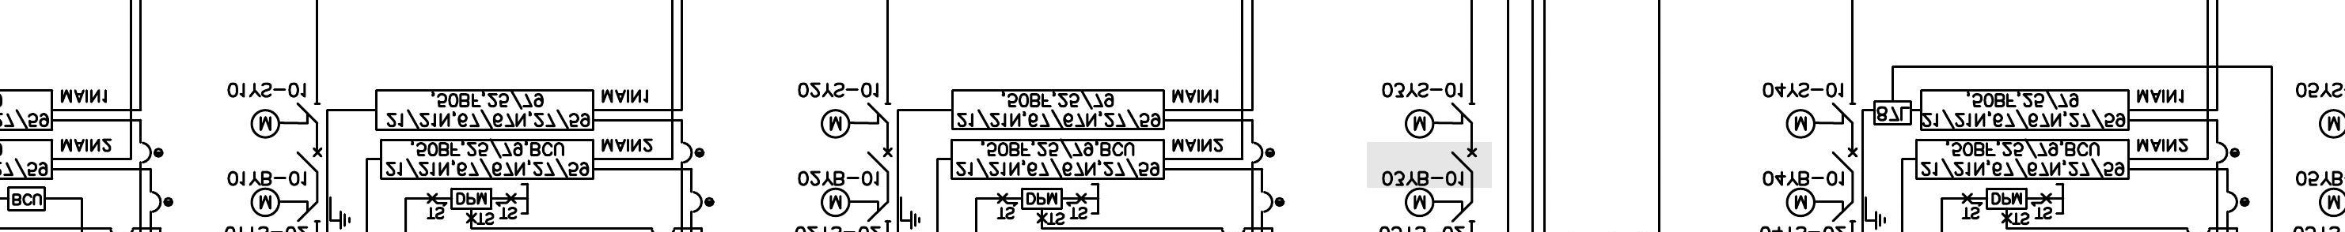115_1way_ds_w_motor: (1404, 187, 1506, 231), (250, 102, 322, 139), (820, 102, 891, 139), (1404, 102, 1476, 139), (1786, 102, 1857, 139)
115_3ways_ds_w_motor: (250, 187, 351, 231), (820, 187, 921, 231), (1786, 187, 1886, 231)
115_breaker: (296, 147, 323, 174), (1451, 147, 1478, 174), (1832, 147, 1857, 174), (867, 147, 893, 172)
BCU: (6, 186, 46, 213)
DPM: (1020, 187, 1063, 210), (1985, 187, 2028, 210), (450, 187, 492, 210)
